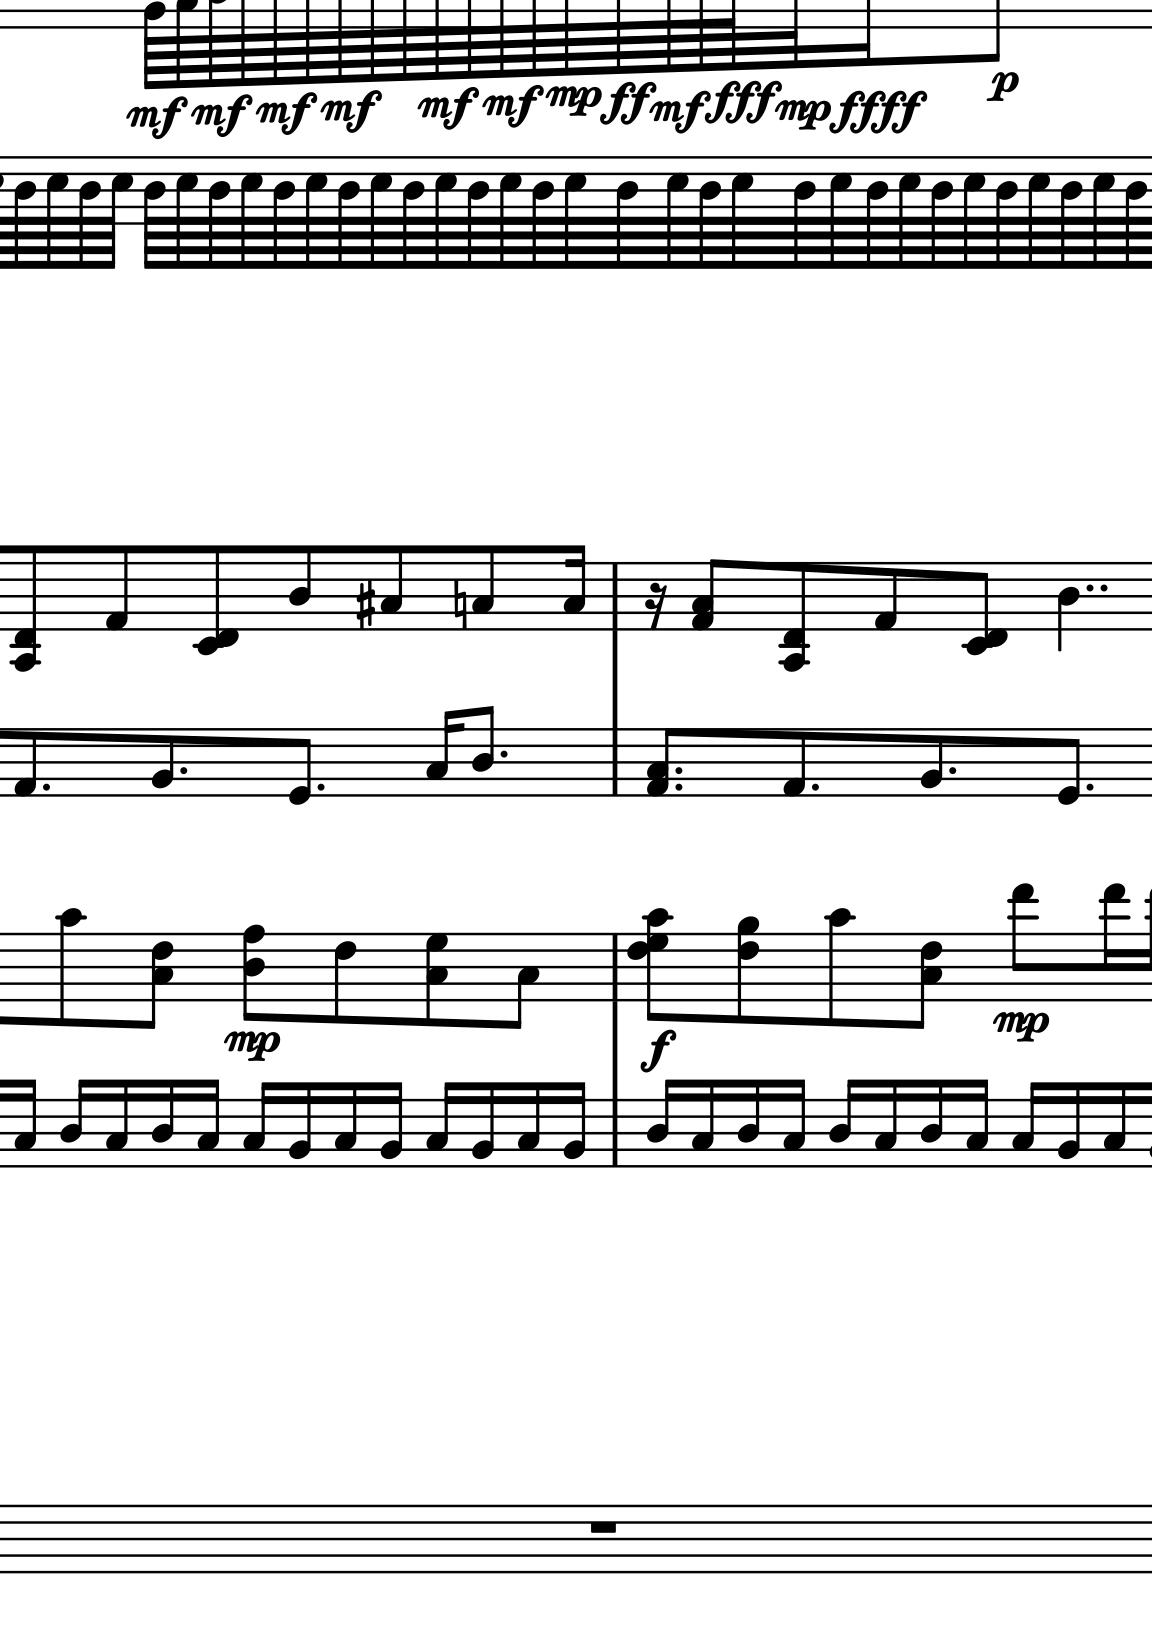16_13: (1098, 881, 1130, 1004)
16_2: (560, 1080, 588, 1169), (1056, 1078, 1083, 1170), (469, 1078, 496, 1169), (288, 1080, 314, 1169), (380, 1078, 404, 1169)
16_3: (425, 1079, 461, 1168), (241, 1079, 276, 1169), (1009, 1080, 1044, 1169), (424, 708, 458, 799), (103, 1077, 132, 1169), (11, 1077, 40, 1169), (333, 1080, 362, 1169), (962, 1075, 989, 1171), (873, 1077, 899, 1170), (1101, 1078, 1127, 1171), (692, 1077, 718, 1169), (780, 1077, 805, 1171), (197, 1077, 221, 1171), (517, 1080, 541, 1169), (565, 545, 588, 633)
16_4: (828, 1077, 862, 1170), (646, 1078, 679, 1170), (60, 1078, 87, 1170), (150, 1075, 176, 1169), (737, 1078, 763, 1170), (918, 1077, 944, 1168)
4_4: (1056, 561, 1082, 653)
64_4: (7, 150, 41, 274), (862, 153, 894, 273), (790, 153, 822, 273), (206, 152, 237, 270), (613, 153, 645, 270), (103, 155, 133, 273), (526, 155, 556, 273), (696, 151, 724, 273), (992, 155, 1022, 269), (269, 152, 298, 270), (465, 153, 491, 275), (334, 155, 362, 270), (76, 150, 102, 270), (1025, 155, 1051, 273), (141, 155, 167, 273), (400, 156, 426, 272), (930, 153, 955, 273), (1058, 155, 1083, 273), (1125, 155, 1147, 275)
64_5: (41, 151, 75, 274), (728, 153, 761, 274), (894, 152, 926, 272), (660, 153, 692, 272), (300, 153, 332, 272), (828, 152, 859, 268), (171, 152, 201, 272), (559, 155, 586, 268), (431, 155, 458, 273), (239, 152, 266, 270), (496, 153, 522, 270), (960, 153, 986, 270), (1092, 156, 1117, 275), (368, 155, 393, 273)
8_-2_-1: (192, 545, 239, 655), (961, 561, 1007, 655)
8_-4_-1: (9, 545, 42, 673), (778, 561, 810, 672)
8_0: (288, 725, 315, 809), (1057, 727, 1083, 808)
8_1: (103, 543, 132, 632), (874, 558, 901, 636), (12, 727, 41, 800), (783, 727, 810, 803)
8_10: (827, 903, 860, 1032), (56, 906, 86, 1031)
8_13: (1010, 879, 1037, 1004)
8_1_3: (645, 727, 678, 800)
8_2: (150, 727, 178, 801), (923, 727, 948, 801)
8_3: (507, 931, 544, 1031), (471, 545, 501, 633), (382, 546, 406, 632)
8_3_6: (140, 931, 173, 1031), (913, 932, 943, 1031)
8_3_7: (425, 932, 449, 1029)
8_4: (287, 542, 315, 636), (473, 704, 497, 800)
8_4_8: (242, 923, 266, 1022)
8_6: (333, 931, 359, 1027)
8_6_9: (737, 916, 761, 1026)
Natural: (448, 577, 471, 634)
Rests1: (586, 1517, 622, 1534)
Rests16: (643, 581, 670, 631)
Sharp: (355, 577, 378, 629)
Single_barline: (601, 933, 628, 1002), (603, 727, 628, 798), (605, 562, 627, 631), (607, 1099, 625, 1166)
dot: (945, 759, 962, 781), (809, 775, 824, 801), (312, 776, 329, 798), (39, 776, 54, 799), (1082, 577, 1097, 598), (1083, 778, 1098, 799), (1097, 577, 1111, 599), (177, 761, 192, 781), (672, 764, 688, 779), (671, 781, 686, 795)
f: (635, 1029, 686, 1080)
ff: (598, 76, 658, 128)
fff: (703, 74, 777, 125)
ffff: (834, 83, 928, 140)
mf: (416, 83, 482, 135), (123, 92, 187, 145), (191, 88, 251, 143), (254, 88, 320, 137), (651, 91, 712, 141), (320, 88, 383, 137), (482, 81, 540, 131)
mp: (219, 1024, 283, 1069), (546, 80, 603, 125), (777, 95, 834, 135), (994, 1009, 1051, 1046)
p: (981, 65, 1030, 108)
